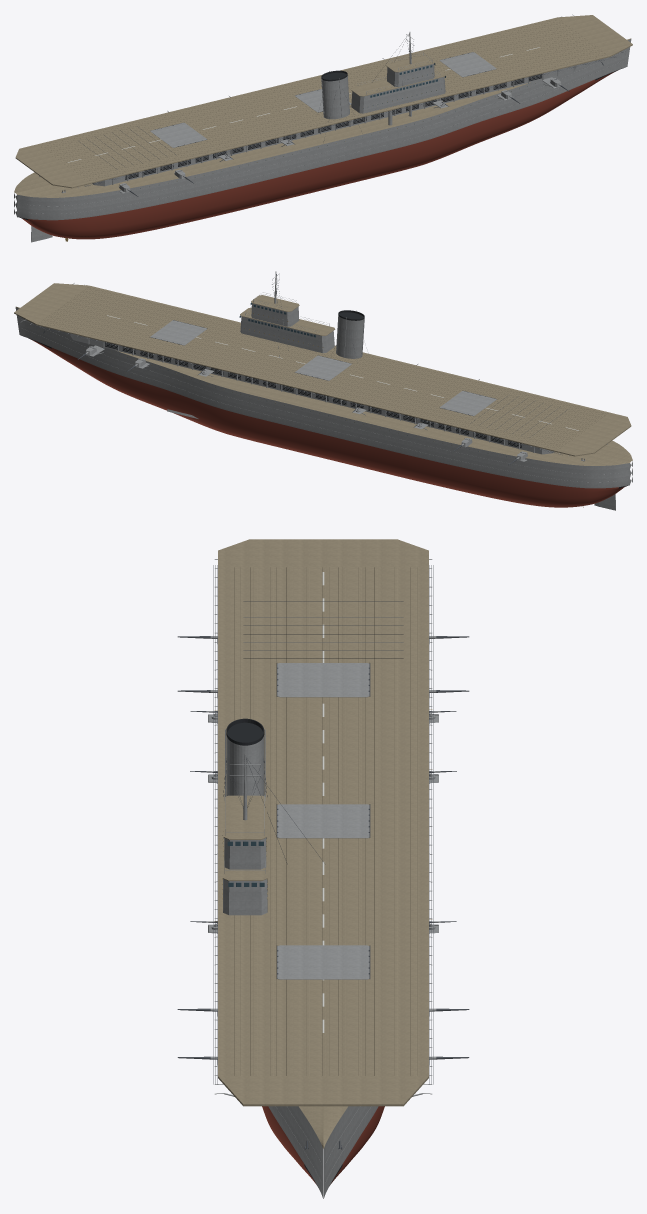
File: bearn_cv.glb
The picture shows the model from 3 angles, top to bottom: view 1: azimuth 30°, elevation 25°; view 2: azimuth 150°, elevation 25°; view 3: azimuth 270°, elevation 25°; orthographic projection. The views are drawn at different scales.
Visible parts, largest first — view 1: Bearn (carrier conversion); view 2: Bearn (carrier conversion); view 3: Bearn (carrier conversion).
Boxes of the visible parts, x1=… form: Bearn (carrier conversion): x1=14, y1=14, x2=632, y2=242; Bearn (carrier conversion): x1=14, y1=271, x2=632, y2=510; Bearn (carrier conversion): x1=177, y1=539, x2=469, y2=1198.
Size of the model in its own units: 183 by 39.63 by 37.44.
Materials: 8 (2 with a texture image).
